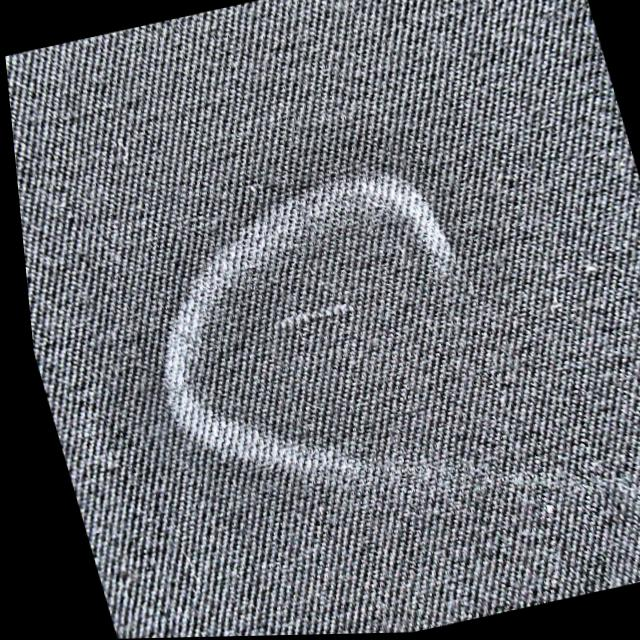Hole: (264, 281, 358, 357)
